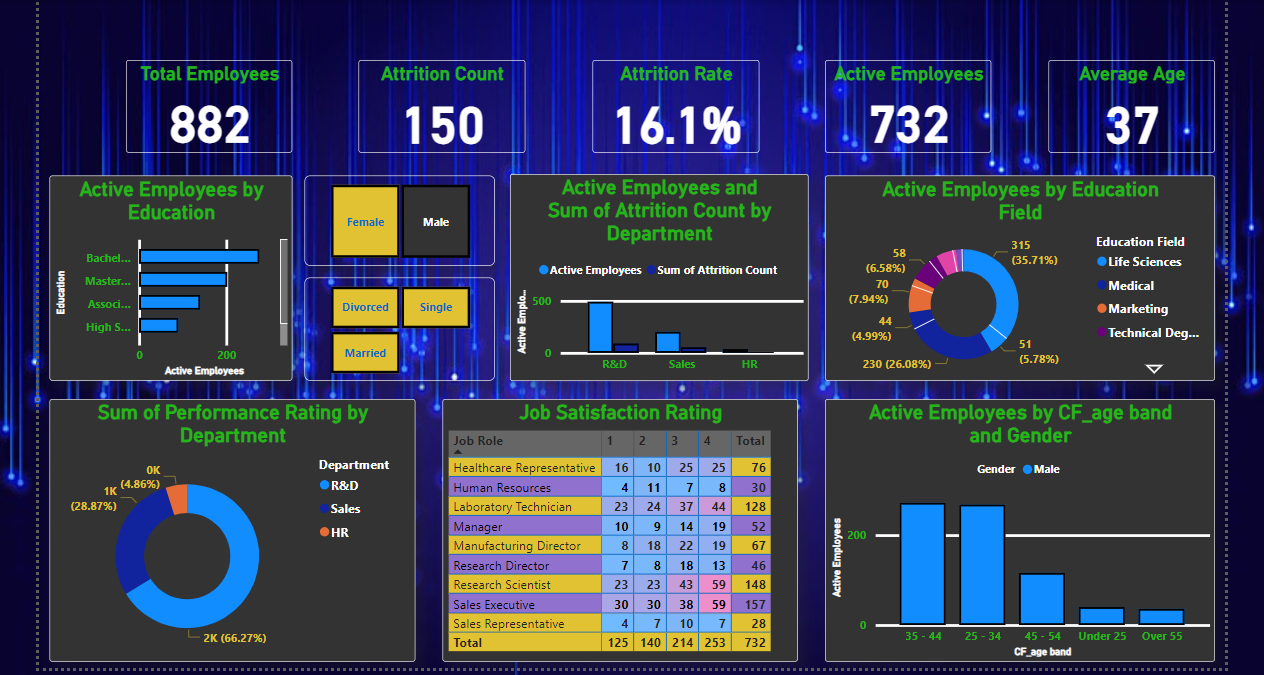

This screenshot's page, from the dashboard's own definition file:
{"tool":"powerbi","page":{"name":"Page 1","canvas":[1280,720],"ordinal":0},"visuals":[{"type":"card","title":"Total Employees ","fields":{"Values":["Sum(HR data.Employee Count)"]},"box":[93.8,64.7,179.6,100.3],"z":0},{"type":"card","title":"Attrition Count","fields":{"Values":["Sum(HR data.Attrition Count)"]},"box":[345,64.8,180,100],"z":1000},{"type":"card","title":"Attrition Rate","fields":{"Values":["Min(HR data.Attrition Rate)"]},"box":[596.5,64.8,180,100],"z":2000},{"type":"card","title":"Active Employees","fields":{"Values":["HR data.Active Employees"]},"box":[847.8,64.7,179.6,100.3],"z":3000},{"type":"card","title":"Average Age","fields":{"Values":["Avg(HR data.Age)"]},"box":[1088.9,64.7,179.6,100.3],"z":4000},{"type":"clusteredColumnChart","fields":{"Y":["HR data.Active Employees","Sum(HR data.Attrition Count)"],"Category":["HR data.Department"]},"box":[508,187.7,322,223.3],"z":5000},{"type":"donutChart","title":"Active Employees by Education Field","fields":{"Y":["HR data.Active Employees","Sum(HR data.Attrition Count)"],"Category":["HR data.Education Field"]},"box":[847.8,189.3,420.7,221.7],"z":6000},{"type":"columnChart","fields":{"Y":["HR data.Active Employees"],"Category":["HR data.CF_age band"],"Series":["HR data.Gender"]},"box":[847.8,430.4,420.7,283.1],"z":7000},{"type":"pivotTable","title":"Job Satisfaction Rating","fields":{"Columns":["HR data.Job Satisfaction"],"Rows":["HR data.Job Role"],"Values":["HR data.Active Employees"]},"box":[435.2,430.4,383.5,283.1],"z":8000},{"type":"donutChart","fields":{"Y":["Sum(HR data.Performance Rating)"],"Category":["HR data.Department"]},"box":[11.3,430.4,394.8,283.1],"z":9000},{"type":"clusteredBarChart","fields":{"Category":["HR data.Education"],"Y":["HR data.Active Employees"]},"box":[11.3,189.3,262.1,221.7],"z":10000},{"type":"slicer","fields":{"Values":["HR data.Gender"]},"box":[286.4,189.3,205.5,97.1],"z":11000},{"type":"slicer","fields":{"Values":["HR data.Marital Status"]},"box":[286.4,299.3,205.5,111.6],"z":12000}]}

Visuals, with their boxes in screenshot pixels (x1, y1, x2, y2):
"Total Employees " card: region(126, 60, 292, 153)
"Attrition Count" card: region(358, 60, 525, 152)
"Attrition Rate" card: region(591, 60, 757, 152)
"Active Employees" card: region(823, 60, 989, 153)
"Average Age" card: region(1046, 60, 1212, 153)
clusteredColumnChart - HR data.Active Employees x Sum(HR data.Attrition Count): region(509, 173, 807, 380)
"Active Employees by Education Field" donutChart: region(823, 175, 1212, 380)
columnChart - HR data.Active Employees x HR data.CF_age band: region(823, 398, 1212, 659)
"Job Satisfaction Rating" pivotTable: region(442, 398, 796, 659)
donutChart - Sum(HR data.Performance Rating) x HR data.Department: region(50, 398, 415, 659)
clusteredBarChart - HR data.Education x HR data.Active Employees: region(50, 175, 292, 380)
slicer - HR data.Gender: region(304, 175, 494, 265)
slicer - HR data.Marital Status: region(304, 277, 494, 380)
